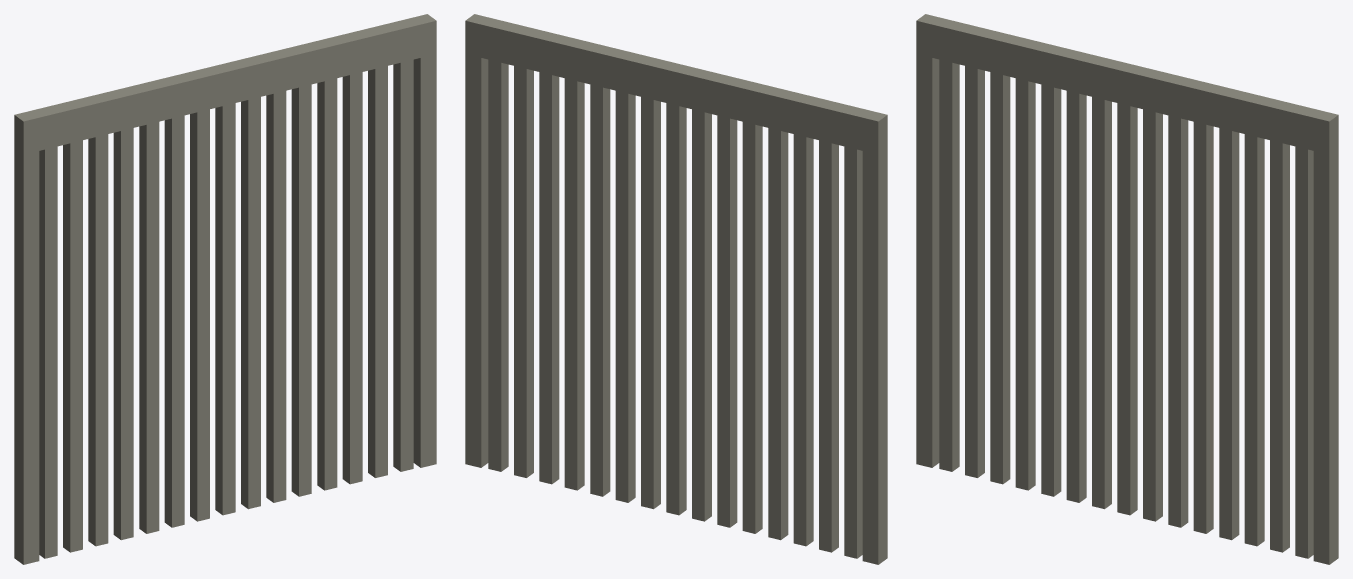
Rendered from es-slit60_h2000_stain.fbx.
The picture shows the model from 3 angles, left to right: view 1: azimuth 30°, elevation 25°; view 2: azimuth 150°, elevation 25°; view 3: azimuth 330°, elevation 25°; orthographic projection.
Parts seen in each view (by area): view 1: es-slit60_h2000_stain; view 2: es-slit60_h2000_stain; view 3: es-slit60_h2000_stain.
Boxes of the visible parts, <box> form: es-slit60_h2000_stain: <box>14,14,436,564</box>; es-slit60_h2000_stain: <box>465,14,887,564</box>; es-slit60_h2000_stain: <box>916,14,1338,564</box>.
Size of the model in its own units: 195 by 200 by 7.5.
1 material, 1 textured.
